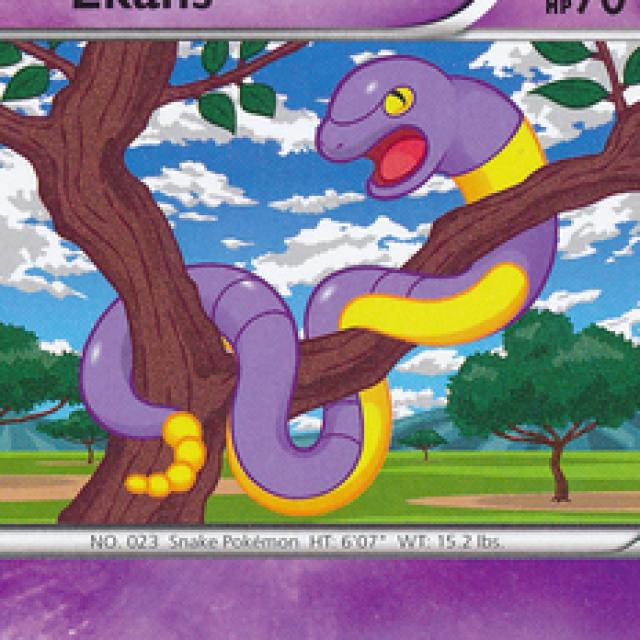Ekans: (70, 51, 565, 518)
